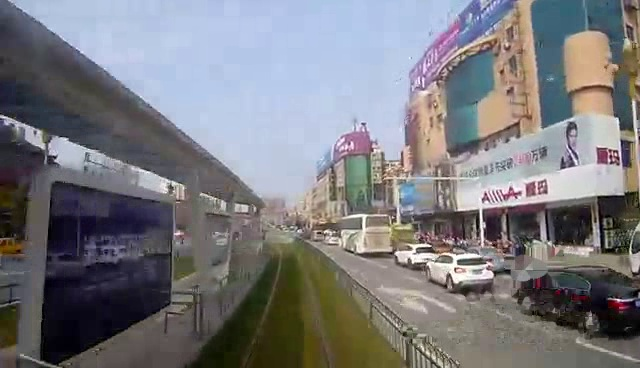bus: (336, 211, 396, 260)
car: (516, 260, 640, 337), (429, 245, 501, 295), (392, 240, 440, 269)
